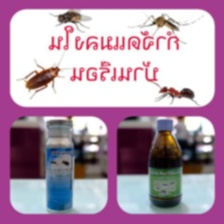insecticide: (144, 117, 185, 215), (40, 116, 78, 217)
